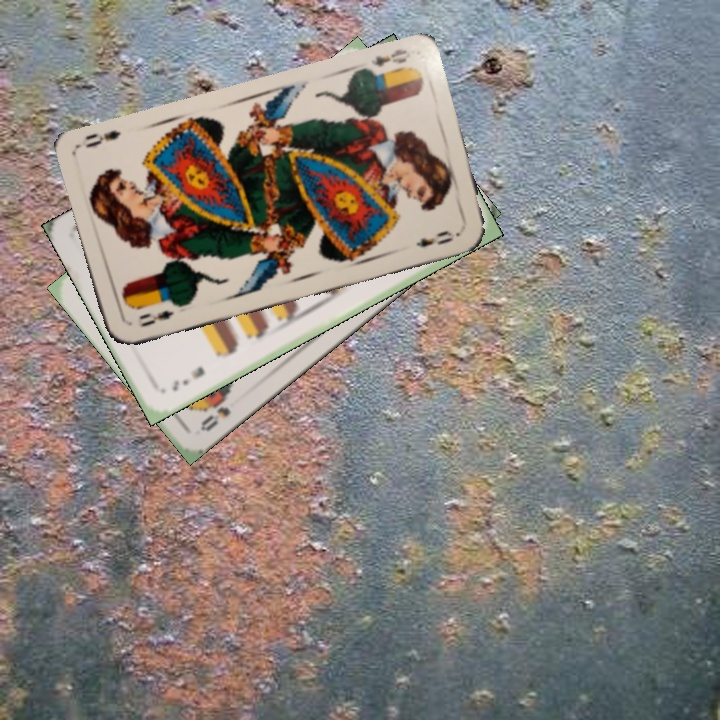E7: (168, 362, 208, 394)
EO: (367, 45, 414, 70), (135, 306, 176, 330)
SO: (196, 387, 235, 434)
